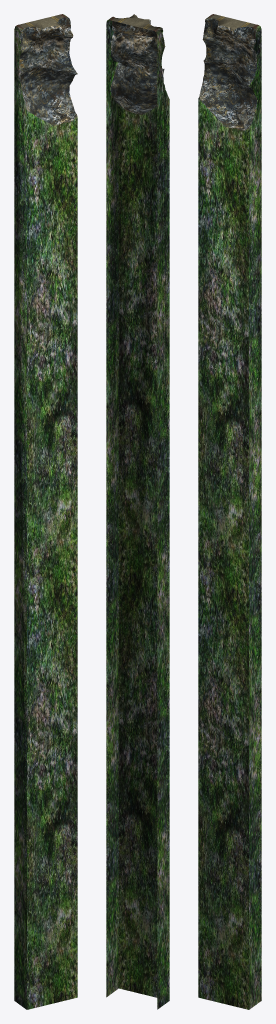
File: Broken from front.fbx
3 renders of one model, left to right at view 1: azimuth 30°, elevation 25°; view 2: azimuth 150°, elevation 25°; view 3: azimuth 330°, elevation 25°, orthographic.
Visible parts, largest first — view 1: Broken from front; view 2: Broken from front; view 3: Broken from front.
Part boxes in pixels (x1,y1,x2,y2): Broken from front: (14,14,77,1009); Broken from front: (106,14,169,1009); Broken from front: (198,14,261,1009).
Size of the model in its own units: 410 by 7538 by 174.
